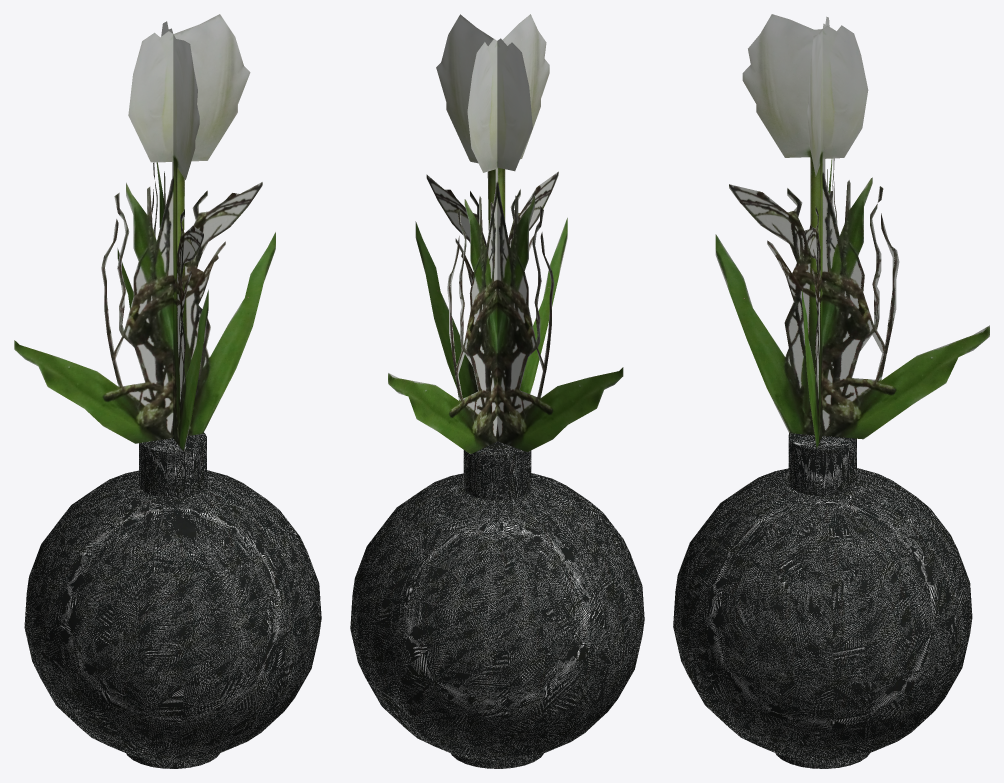
Rendered from black_vase_with_white_flower.dae.
3 views of the same model, side by side, from view 1: azimuth 30°, elevation 25°; view 2: azimuth 150°, elevation 25°; view 3: azimuth 270°, elevation 25° (orthographic).
Visible parts, largest first — view 1: SketchUp (×2); view 2: SketchUp (×2); view 3: SketchUp (×2).
Boxes of the visible parts, x1,y1,x2,y2 form: SketchUp (×2): [14, 14, 321, 768]; SketchUp (×2): [350, 14, 644, 768]; SketchUp (×2): [673, 14, 989, 768].
Size of the model in its own units: 0.1459 by 0.1464 by 0.3736.
Materials: 5 (3 with a texture image).
